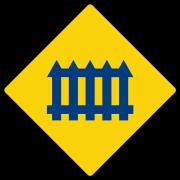Barrier Ahead: (18, 20, 169, 163)
